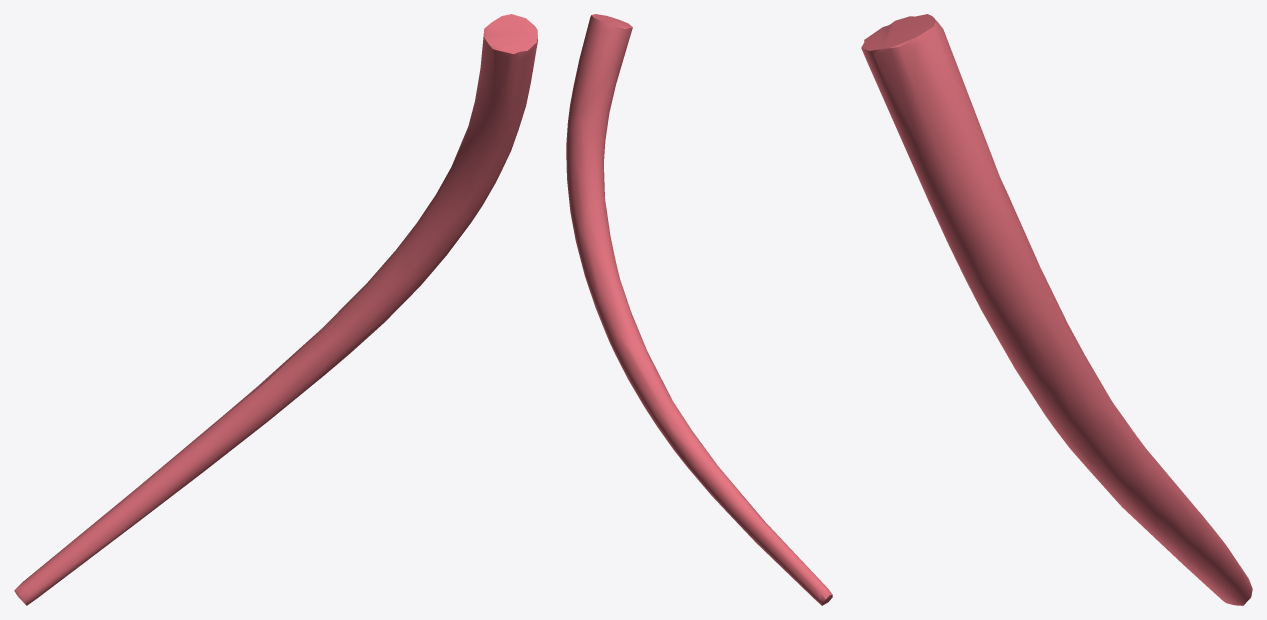
Rendered from fma68140_fj5973.glb.
3 renders of one model, left to right at view 1: azimuth 30°, elevation 25°; view 2: azimuth 150°, elevation 25°; view 3: azimuth 270°, elevation 25°, orthographic. The views are drawn at different scales.
Parts seen in each view (by area): view 1: FMA68140_FJ5973; view 2: FMA68140_FJ5973; view 3: FMA68140_FJ5973.
Part boxes in pixels (x1,y1,x2,y2): FMA68140_FJ5973: (14, 14, 537, 605); FMA68140_FJ5973: (566, 14, 832, 605); FMA68140_FJ5973: (861, 14, 1252, 605).
Size of the model in its own units: 0.0432 by 0.0566 by 0.0232.
